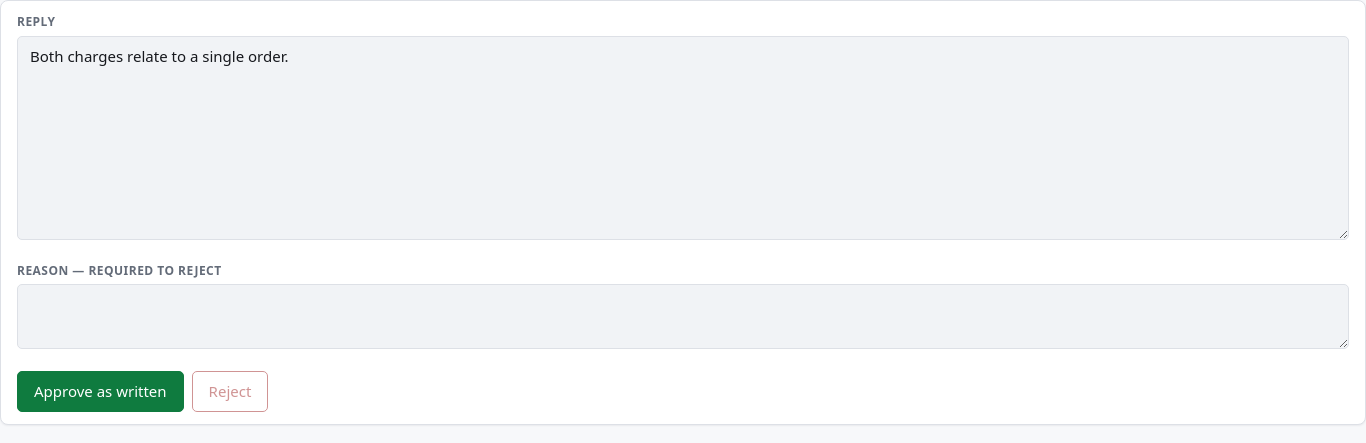
Test: ReviewActions › will not reject without a reason
The image size is (1366, 443).
Check: the button "Reject" is disabled, box [192,371,268,412]
In the text box labelled "Reason — required to reject": (683, 317) [17,284,1349,349], type "Cites the wrong precedent."
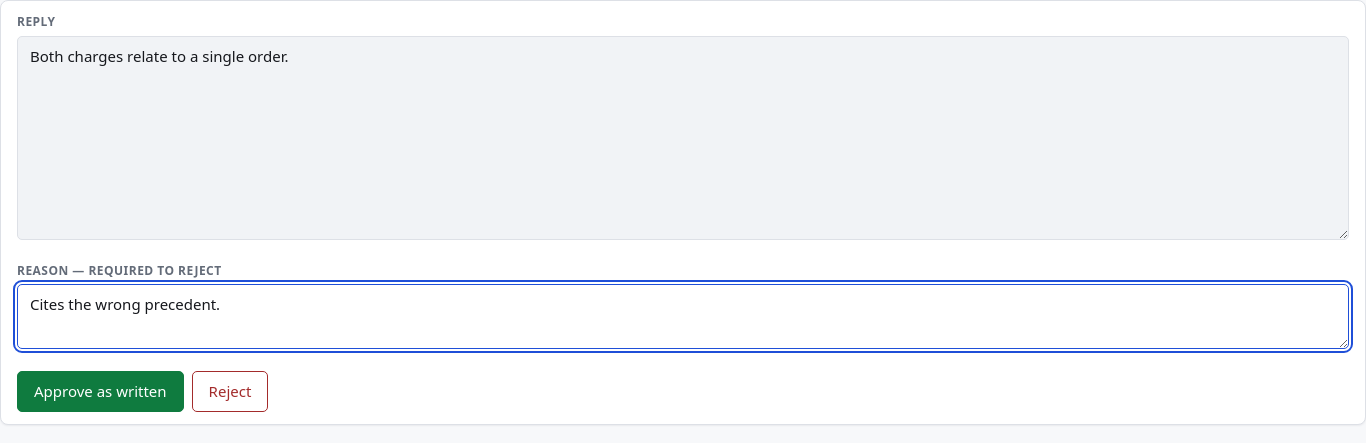
Check: the button "Reject" is enabled, box [192,371,268,412]
